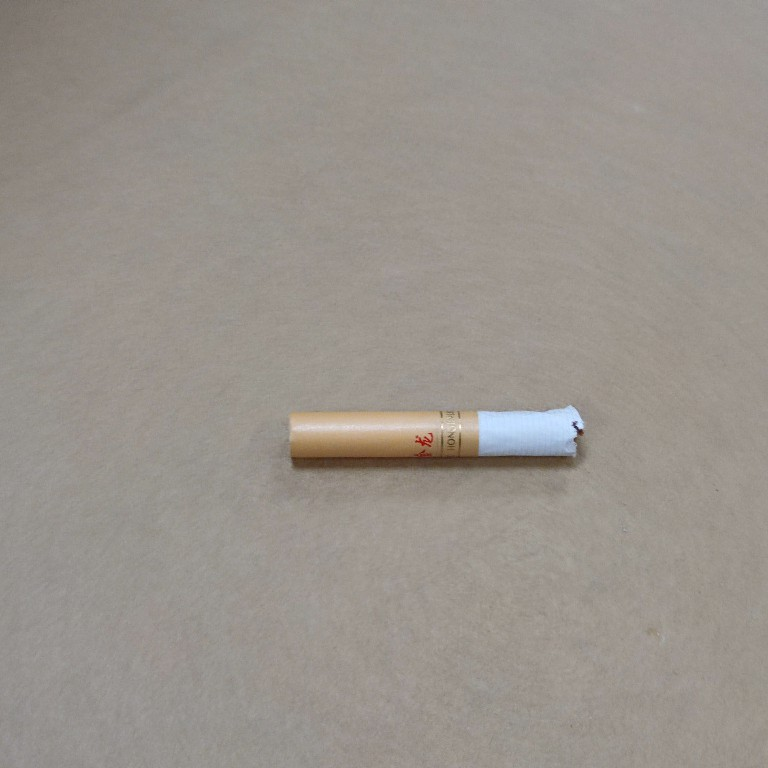cigarette: (281, 401, 585, 463)
